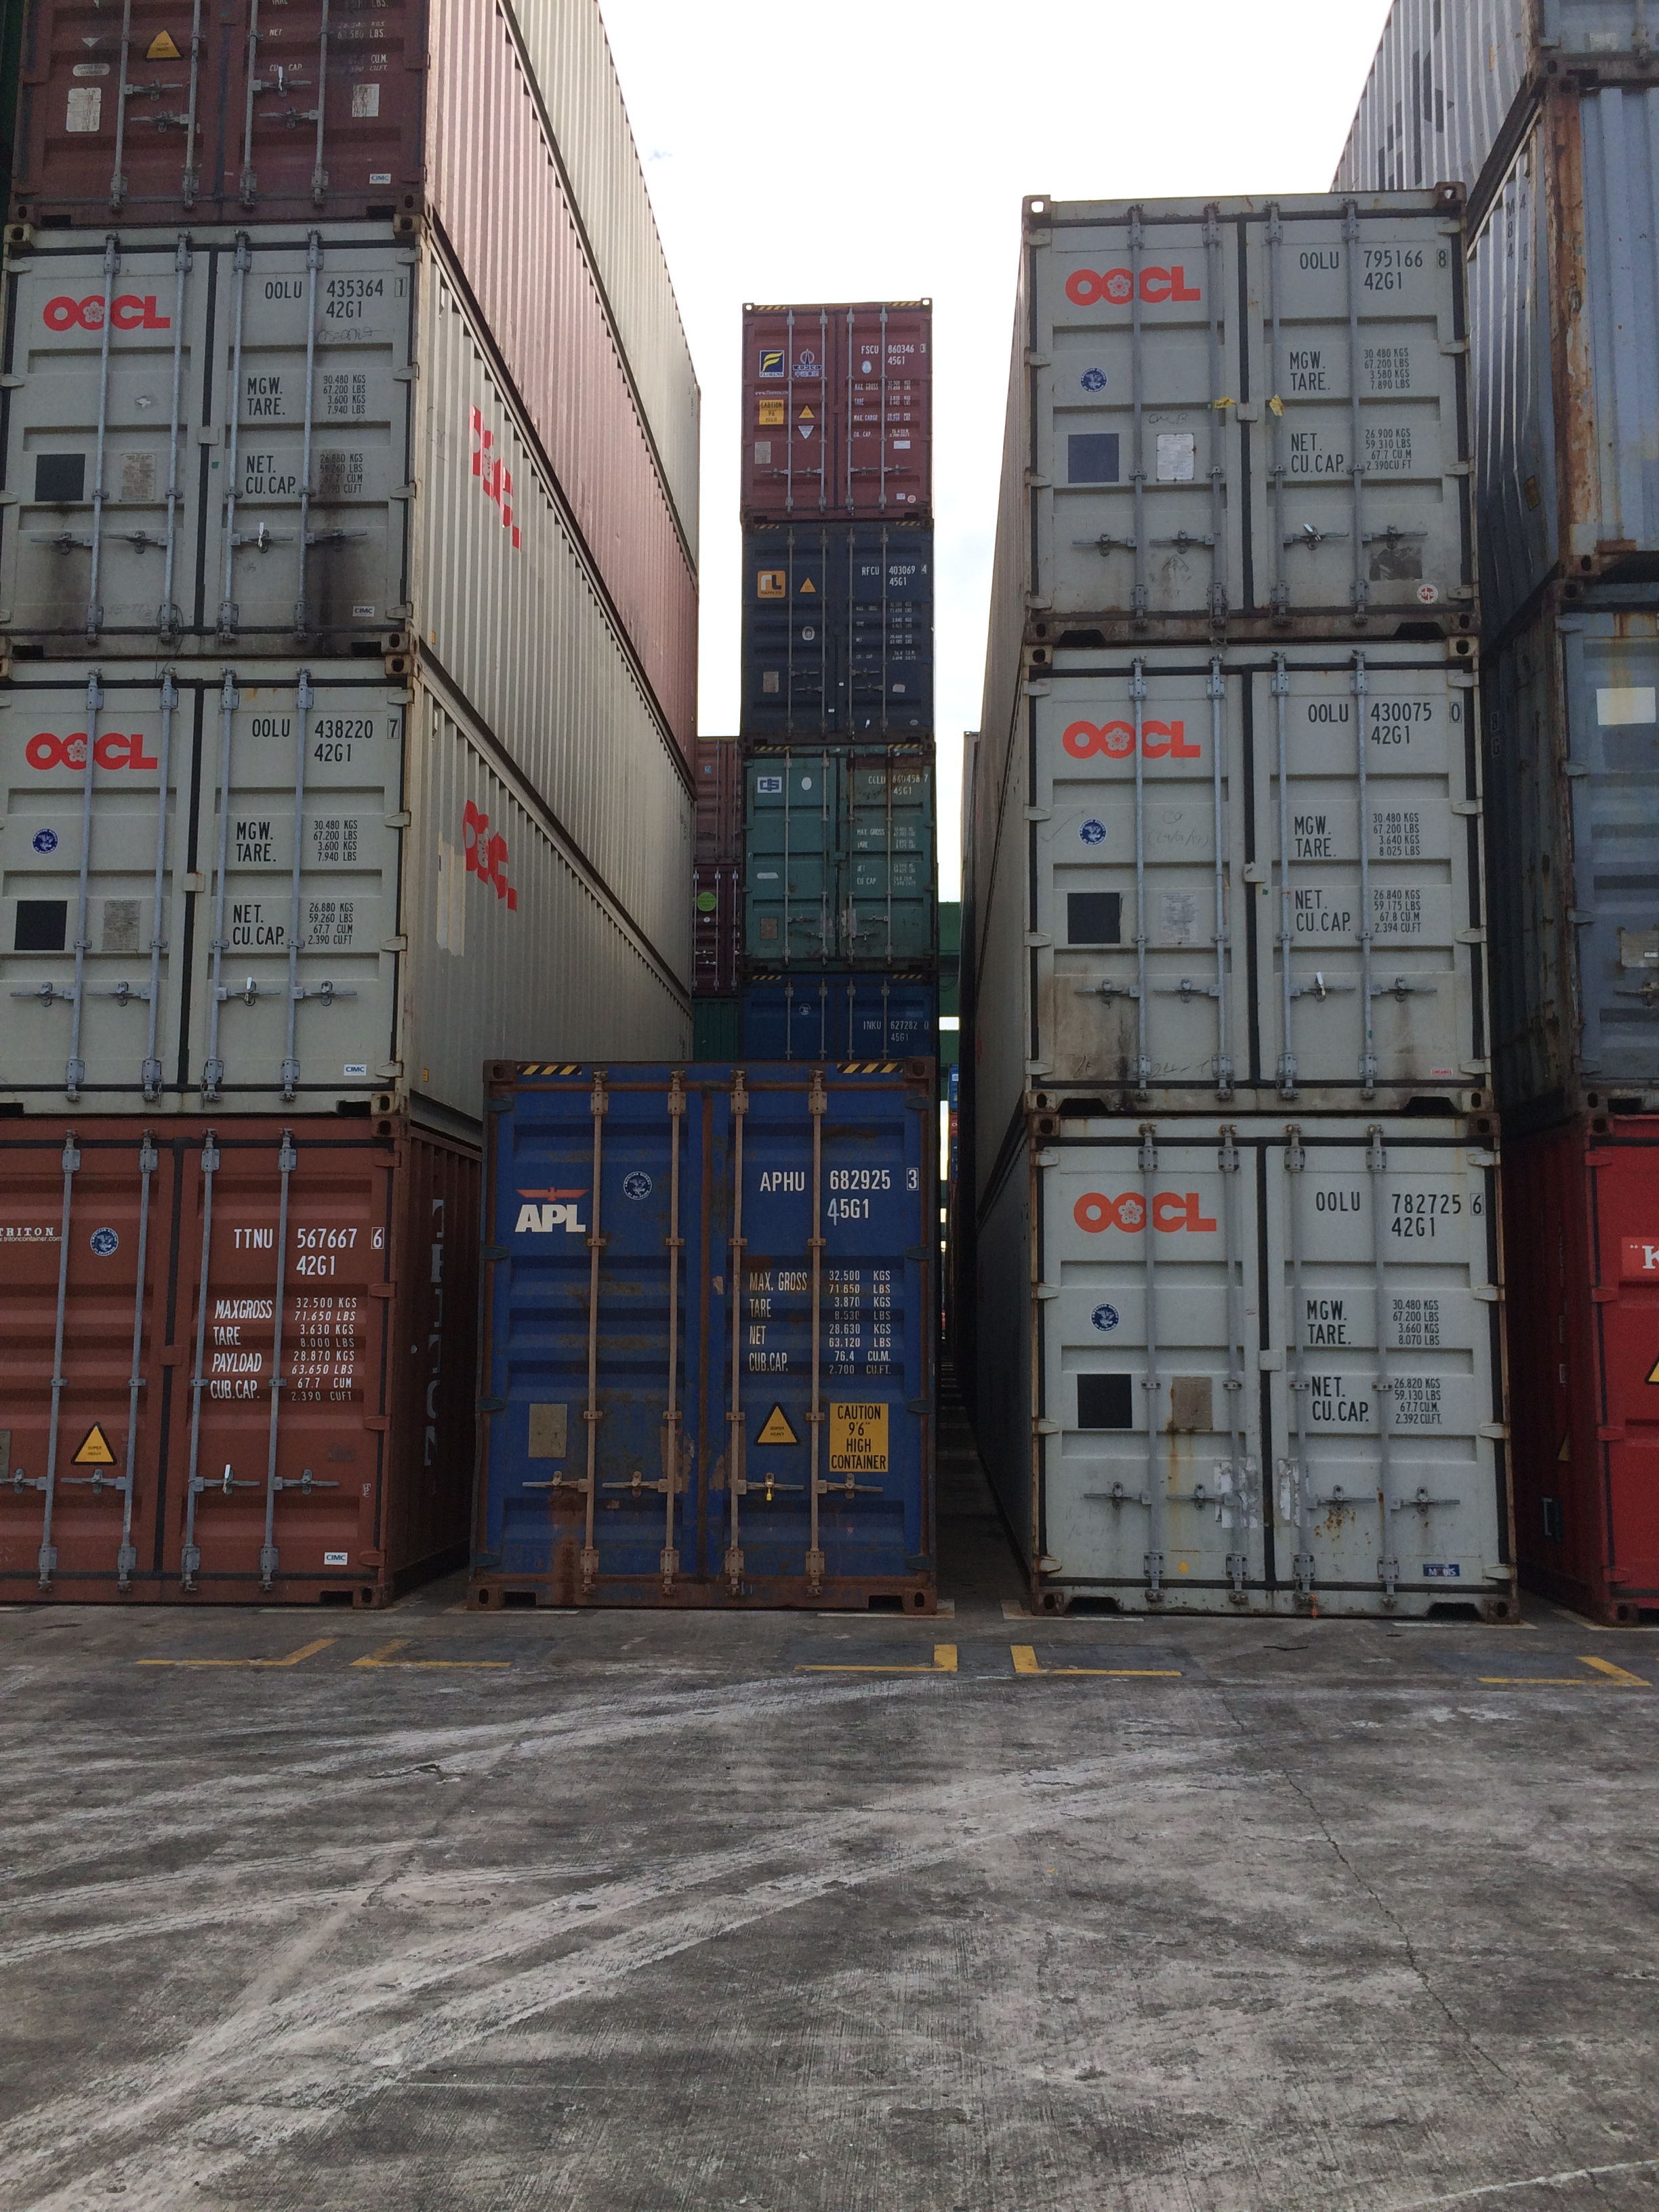container_door: (486, 1057, 950, 1615), (1037, 1129, 1502, 1613), (1028, 634, 1492, 1116), (1028, 199, 1473, 627), (0, 1111, 385, 1592), (0, 643, 385, 1122), (9, 230, 408, 646), (746, 300, 924, 514), (749, 524, 925, 740), (760, 752, 936, 968)
